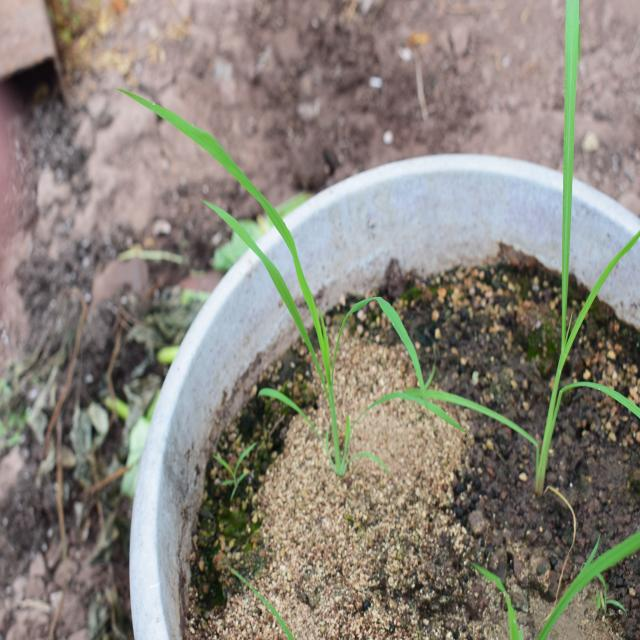barnyard_grass: (153, 105, 420, 468), (515, 46, 639, 494)
